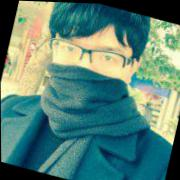WRONG: (40, 22, 131, 121)
